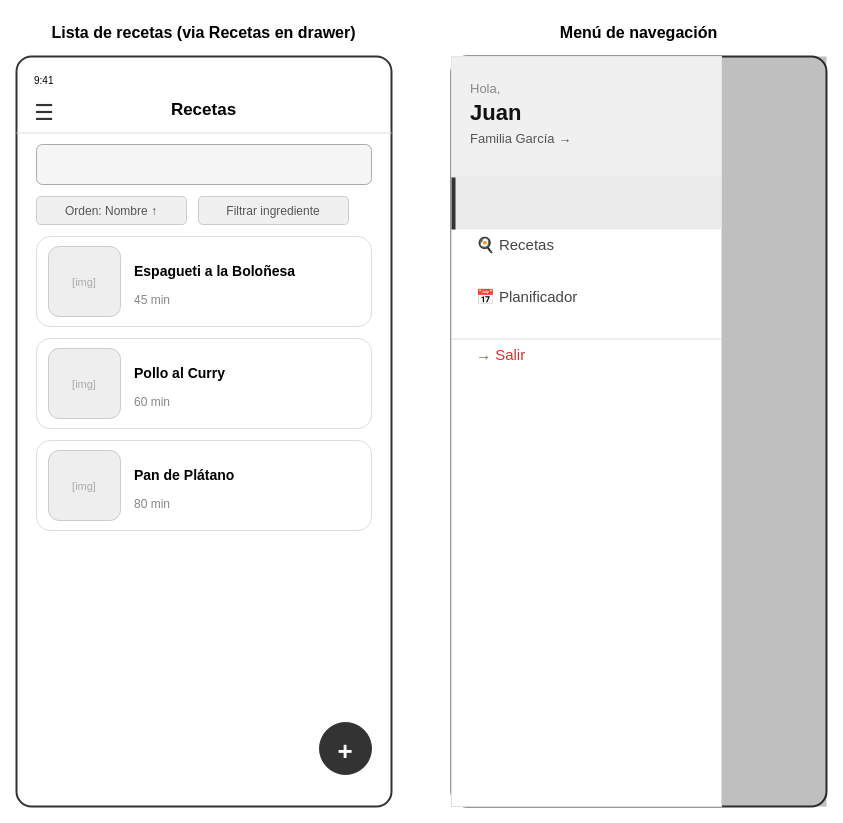
This 843x823 diagram has some shape labels left out. The centre of each missing label's shape, as x and y in pixels:
☀ Hoy: [586,203]
🔍 Buscar recetas...: [204,164]
